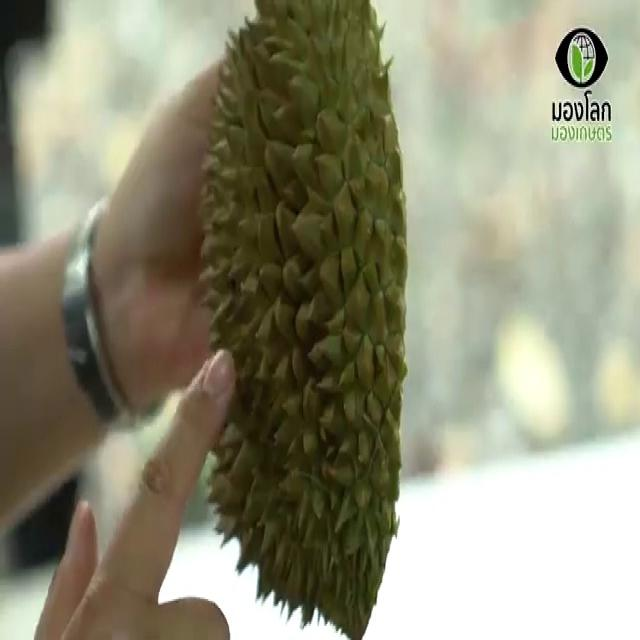durian: (195, 4, 412, 638)
